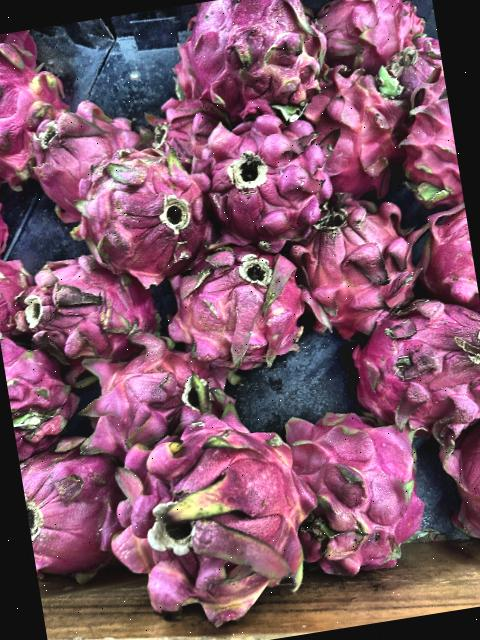buah-naga-matang: (91, 398, 329, 628), (276, 390, 438, 590), (287, 187, 434, 330), (70, 138, 211, 284), (156, 243, 316, 370), (66, 329, 226, 452), (351, 293, 480, 443), (187, 107, 326, 240), (17, 240, 158, 361), (185, 0, 326, 121), (19, 436, 127, 574), (300, 62, 402, 199), (20, 99, 148, 196), (0, 26, 78, 178), (0, 314, 80, 449), (309, 0, 423, 64), (399, 96, 463, 204), (414, 192, 478, 298), (436, 411, 480, 565), (380, 29, 445, 91), (0, 246, 37, 328)
